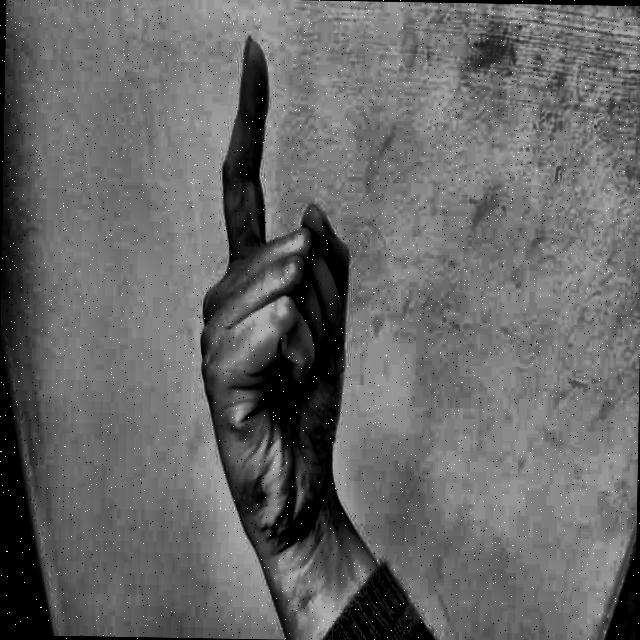U: (178, 30, 376, 547)
